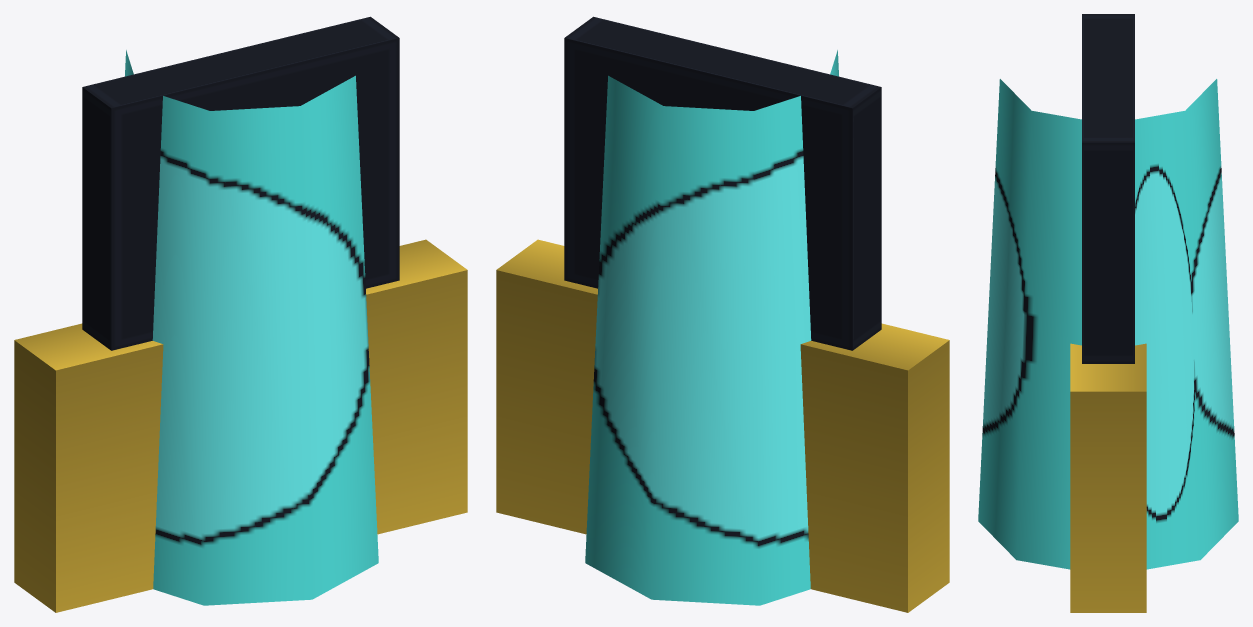
File: KIT_Arch_FogGate_4.glb
3 views of the same model, side by side, from view 1: azimuth 30°, elevation 25°; view 2: azimuth 150°, elevation 25°; view 3: azimuth 270°, elevation 25° (orthographic). The views are drawn at different scales.
Parts seen in each view (by area): view 1: KIT_Arch_FogGate_4; view 2: KIT_Arch_FogGate_4; view 3: KIT_Arch_FogGate_4.
Part boxes in pixels (box(x1,y1,x2,y2)): KIT_Arch_FogGate_4: box(14, 16, 467, 612); KIT_Arch_FogGate_4: box(496, 16, 949, 612); KIT_Arch_FogGate_4: box(978, 14, 1238, 612).
Bounding box in the file's own units: 4 × 4.5 × 2.4.
Materials: 1 (1 with a texture image).
